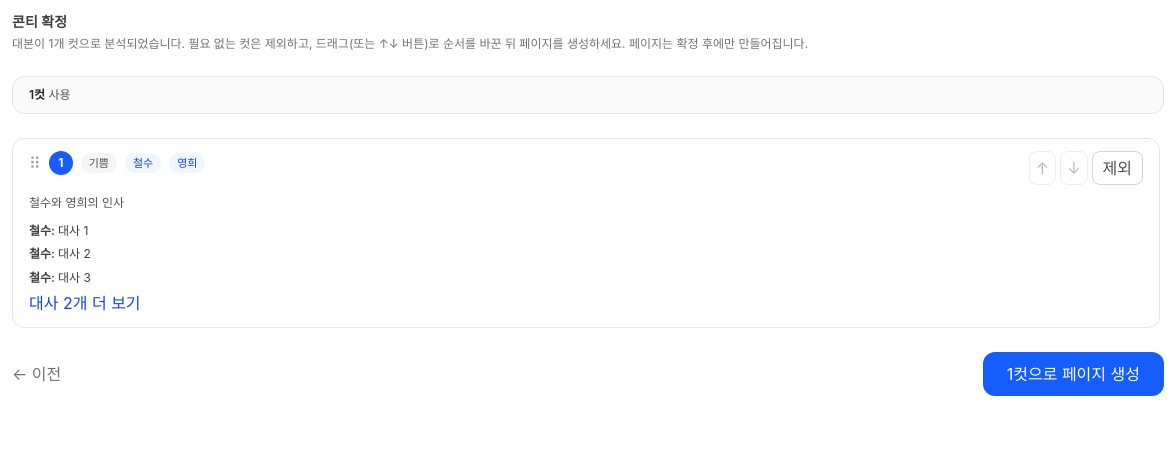
Test: ContiBoard — 콘티 확정 단계 (CONTI-03) › 긴 대사 펼치기 — "더 보기" 토글로 전체 대사 노출
Expected: the text "대사 5" is not shown
Click the button "대사 2개 더 보기" at (85, 303), box [29,291,141,315]
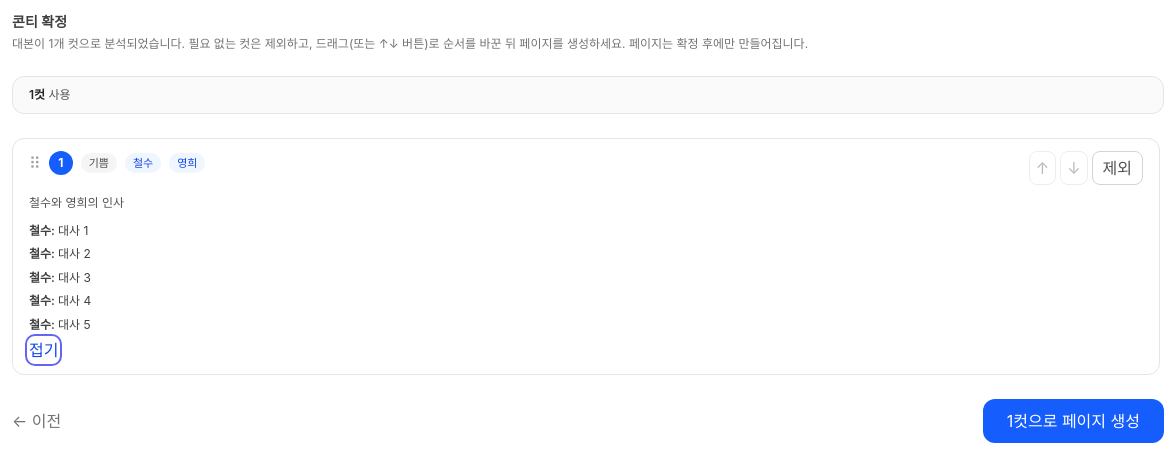
Now the text "대사 5" is shown, box [58,316,91,332]
